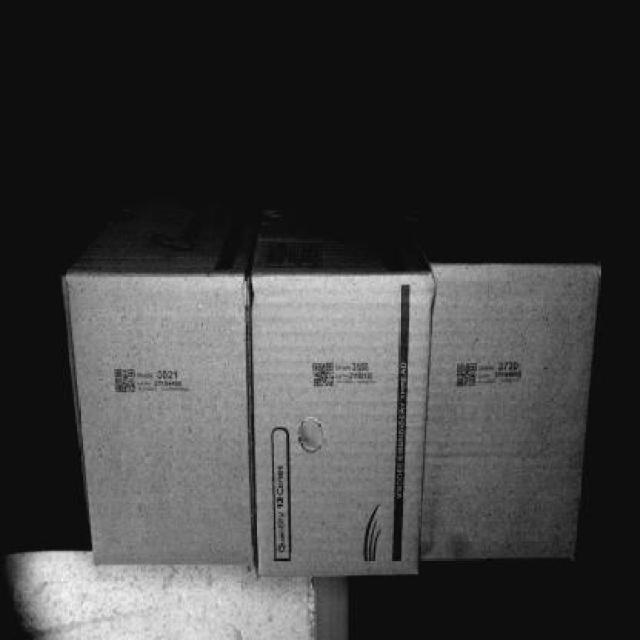box: (71, 270, 254, 572), (257, 277, 420, 580), (428, 267, 588, 564)
